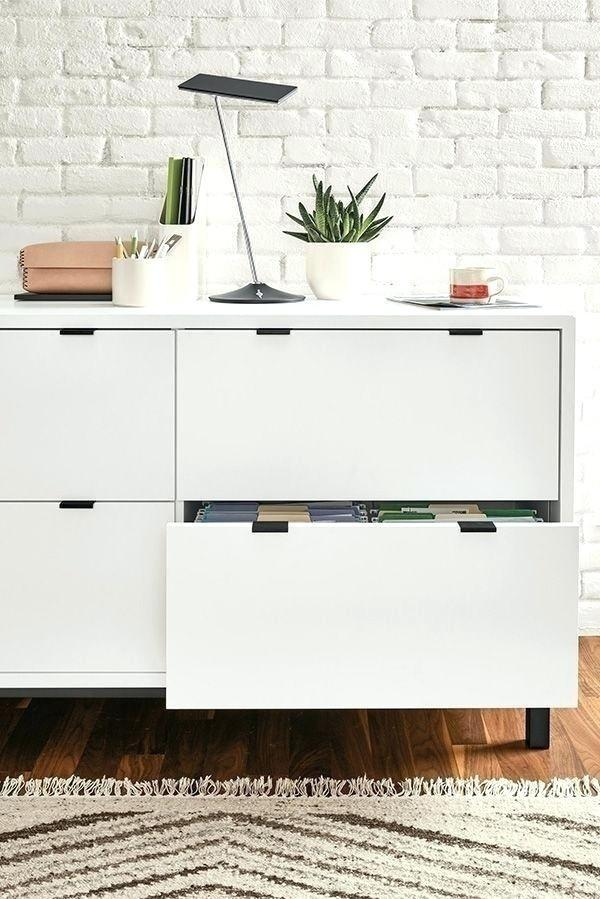cabinet_door: (166, 524, 575, 705), (183, 331, 562, 500), (0, 333, 170, 503), (0, 505, 169, 675)
handle: (57, 491, 99, 518), (443, 323, 487, 347), (254, 322, 293, 347), (58, 324, 98, 344), (454, 521, 502, 537), (245, 520, 294, 535)
